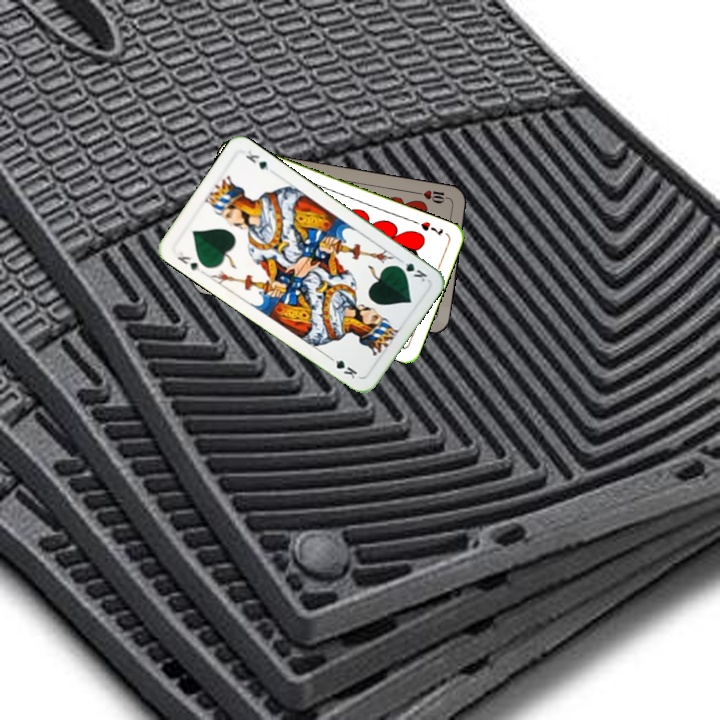GK: (392, 255, 430, 285), (173, 247, 204, 274)
H10: (413, 186, 453, 206)
H7: (410, 217, 446, 238)
